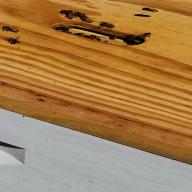Bee: (133, 4, 173, 18), (54, 9, 100, 20), (1, 36, 27, 46)
